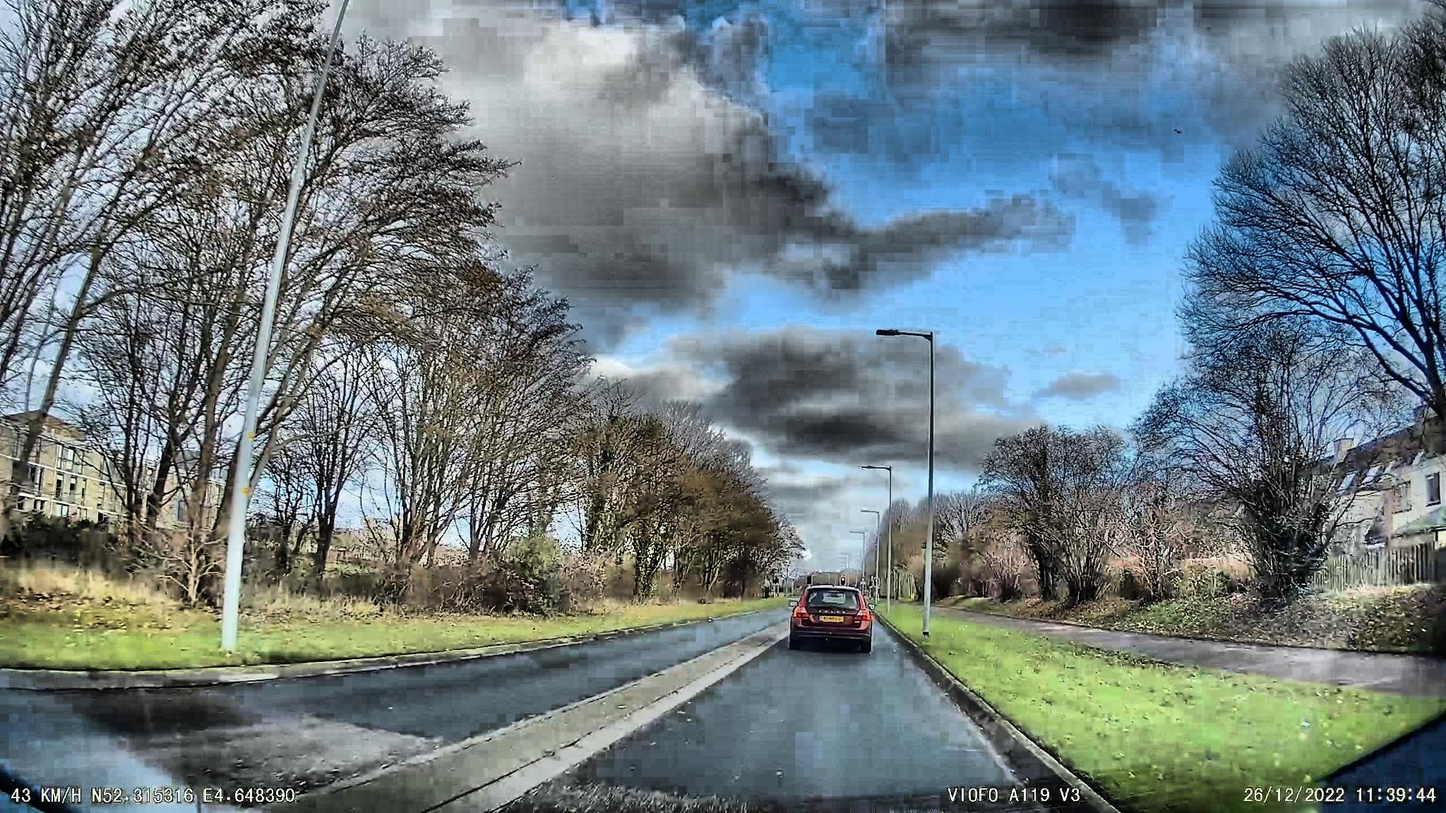Roads: (0, 610, 1126, 813)
